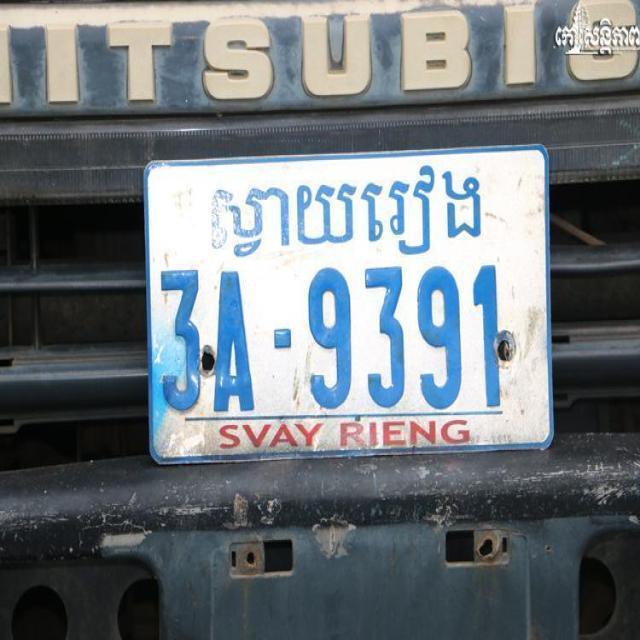Svay_Rieng: (211, 164, 486, 263)
